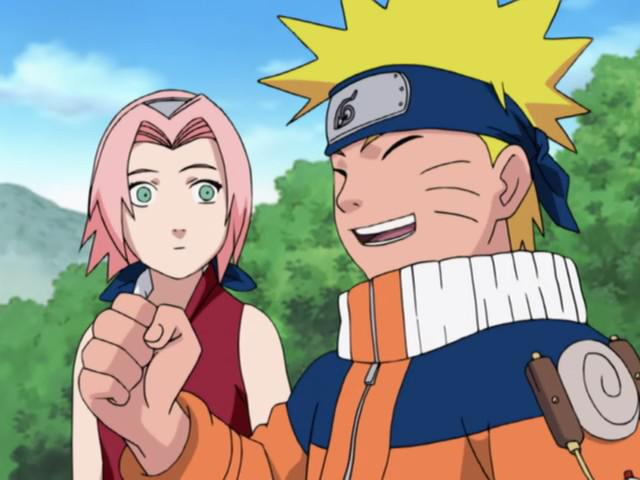naruto: (324, 59, 543, 278)
sakura: (92, 88, 252, 283)
